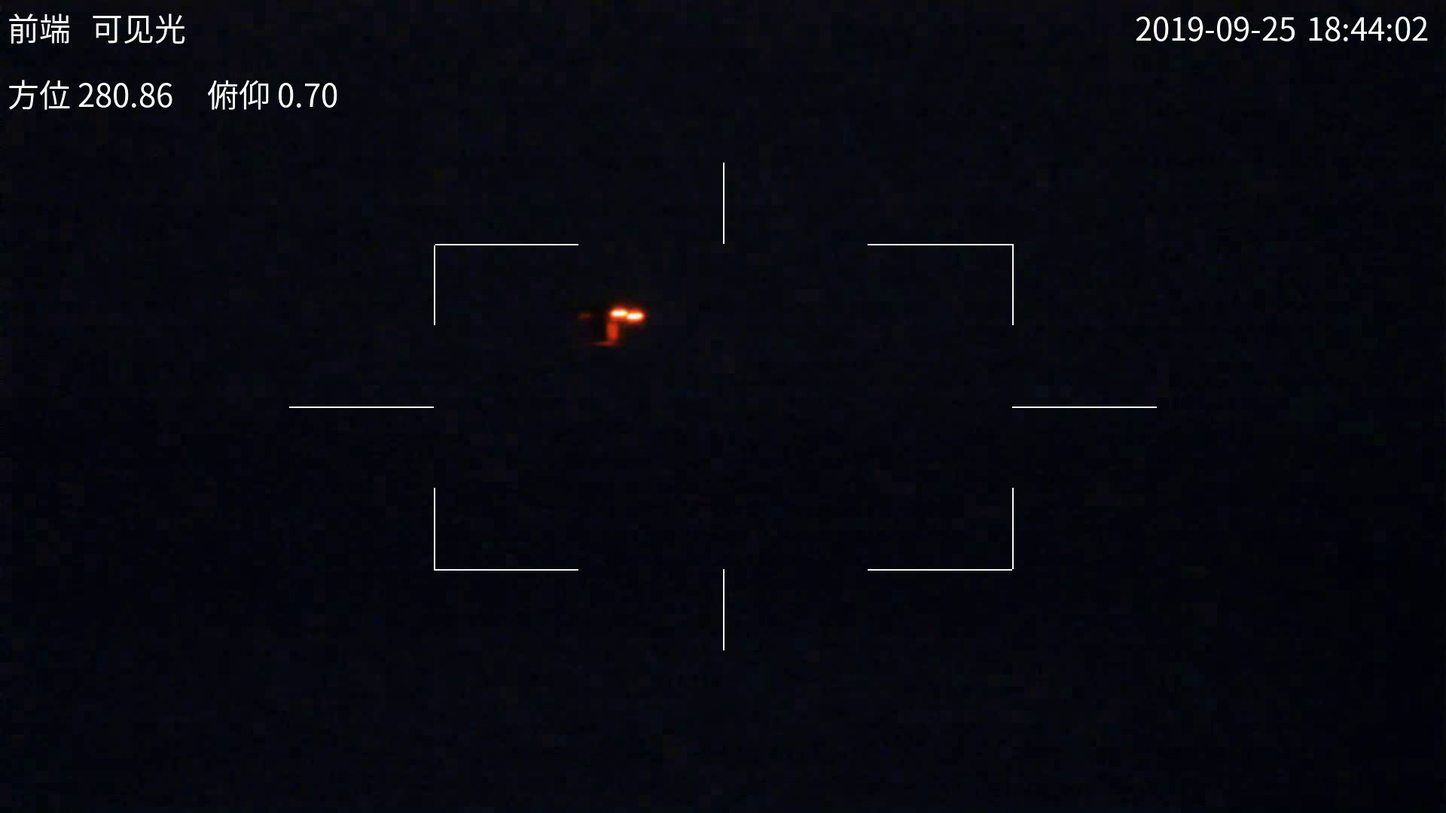drone: (570, 295, 657, 351)
